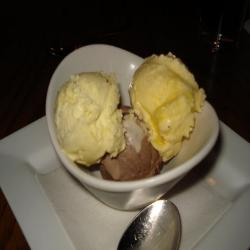icecream: (46, 46, 212, 194)
